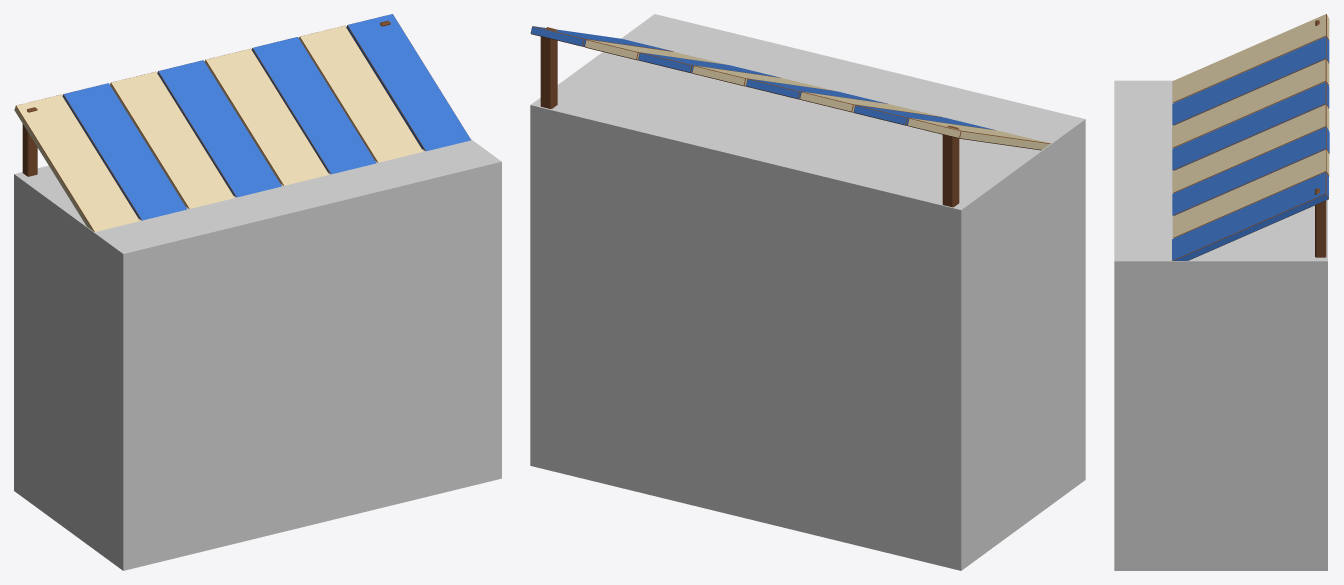
Rendered from prop_awning_a.glb.
The picture shows the model from 3 angles, left to right: view 1: azimuth 30°, elevation 25°; view 2: azimuth 150°, elevation 25°; view 3: azimuth 270°, elevation 25°; orthographic projection. The views are drawn at different scales.
Visible parts, largest first — view 1: COL_prop_awning_a_1, prop_awning_a; view 2: COL_prop_awning_a_1, prop_awning_a; view 3: COL_prop_awning_a_1, prop_awning_a.
Part boxes in pixels (box(x1,y1,x2,y2)): COL_prop_awning_a_1: box(14, 139, 501, 570); prop_awning_a: box(14, 14, 470, 231); COL_prop_awning_a_1: box(530, 14, 1085, 570); prop_awning_a: box(530, 26, 1050, 207); COL_prop_awning_a_1: box(1114, 80, 1327, 570); prop_awning_a: box(1172, 14, 1329, 260).
Size of the model in its own units: 3 by 2.92 by 1.51.
